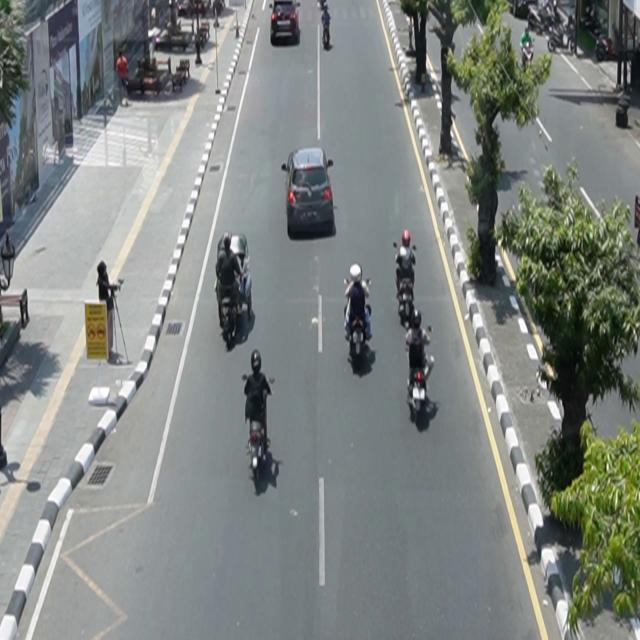car: (282, 147, 335, 237), (270, 1, 302, 46)
